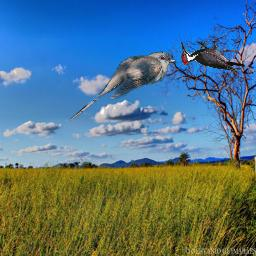Cuckoo: (70, 51, 178, 121)
Woodpecker: (181, 41, 245, 72)
